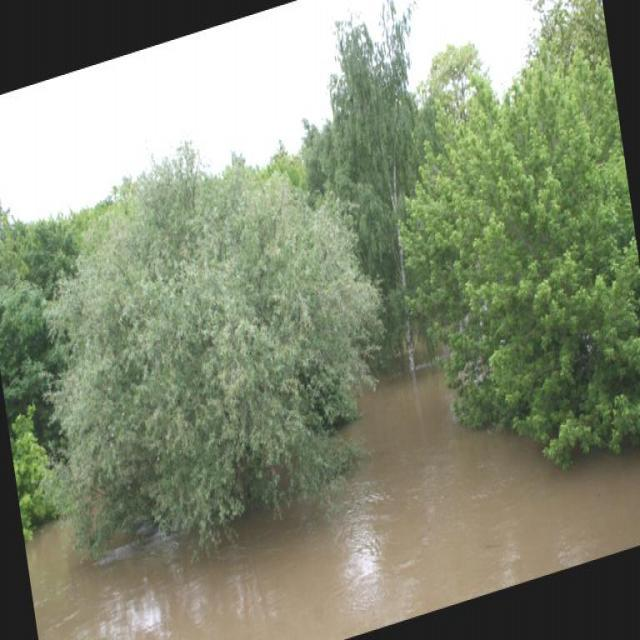flood: (18, 294, 639, 639)
